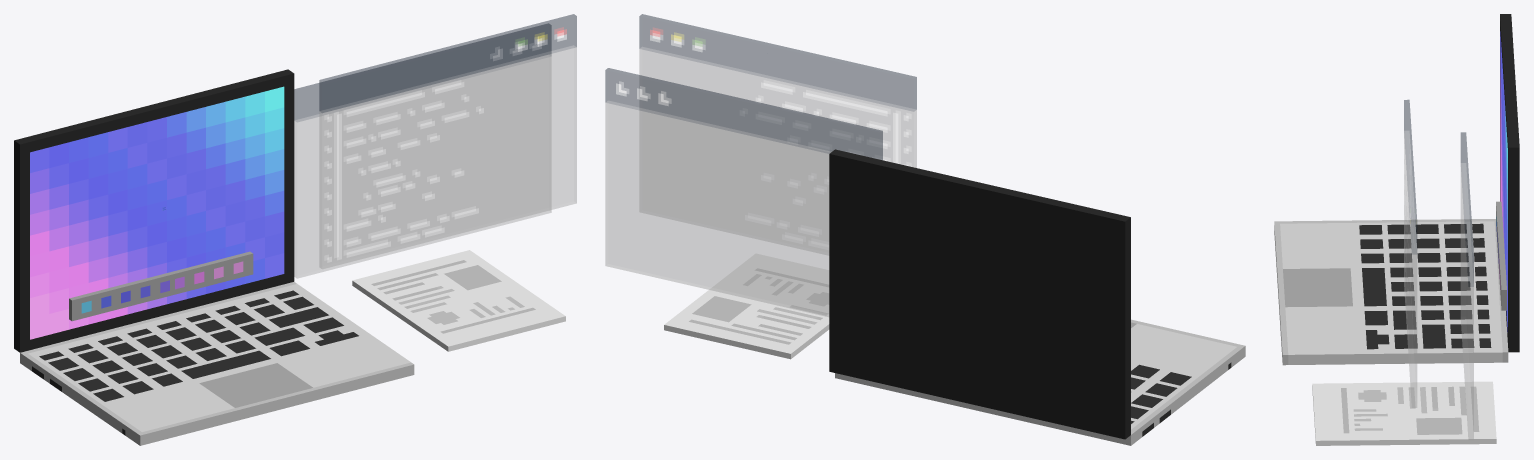
File: laptop.glb
3 renders of one model, left to right at view 1: azimuth 30°, elevation 25°; view 2: azimuth 150°, elevation 25°; view 3: azimuth 270°, elevation 25°, orthographic. The views are drawn at different scales.
Visible parts, largest first — view 1: laptop; view 2: laptop; view 3: laptop.
Boxes of the visible parts, x1,y1,x2,y2 form: laptop: (14, 14, 576, 445); laptop: (605, 14, 1245, 445); laptop: (1274, 14, 1519, 445).
Size of the model in its own units: 12.21 by 5.77 by 5.12.
Materials: 4 (4 with a texture image).
